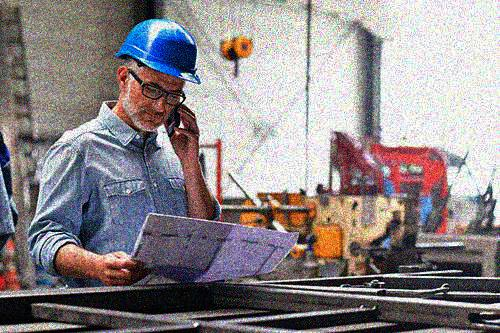helmet: (112, 17, 202, 133)
